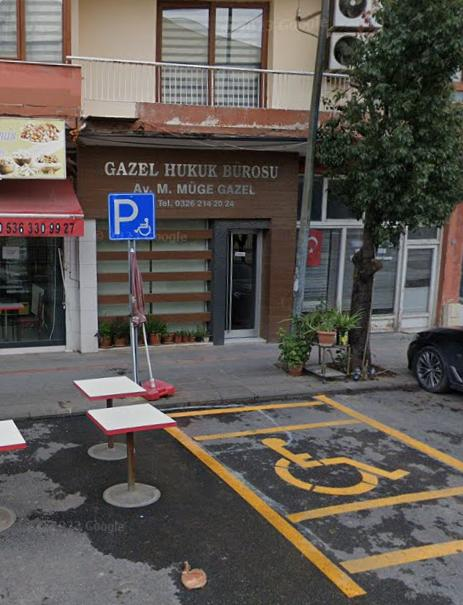disabledpark: (110, 192, 154, 241)
